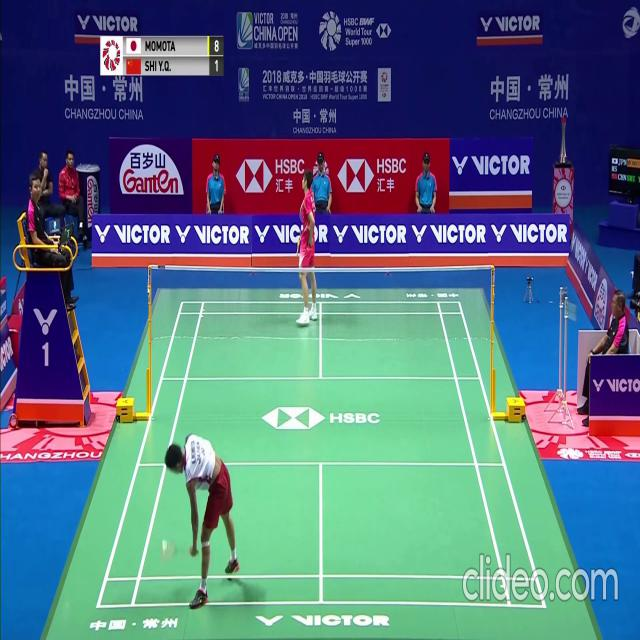Shuttlecock: (164, 539, 169, 547)
